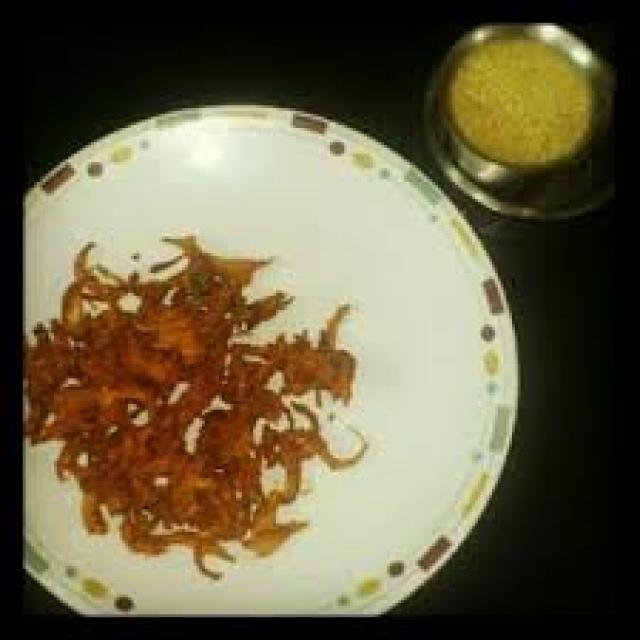BAJI: (26, 236, 358, 577)
